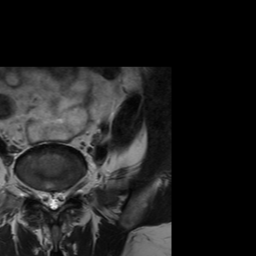CCS_normal: (48, 179, 57, 217)
LFS_normal: (66, 176, 76, 205)
LLS_normal: (57, 179, 66, 212)
RFS_normal: (31, 178, 40, 206)
RLS_normal: (40, 181, 48, 210)
